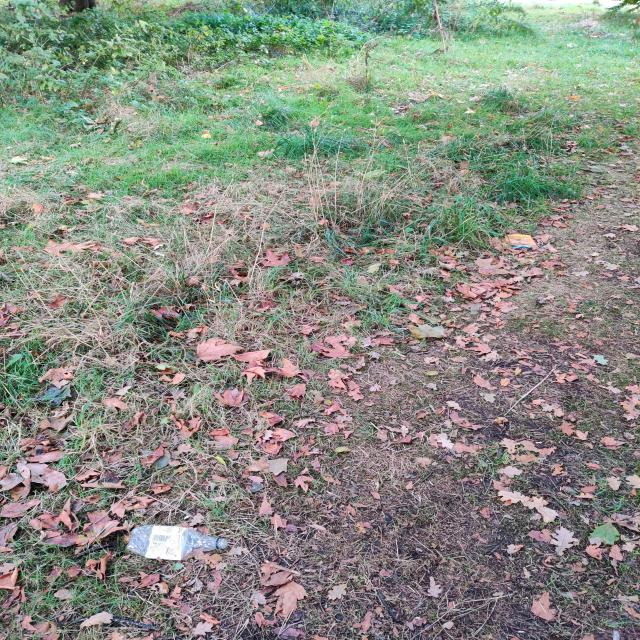litter: (126, 525, 227, 560), (504, 234, 537, 249)
